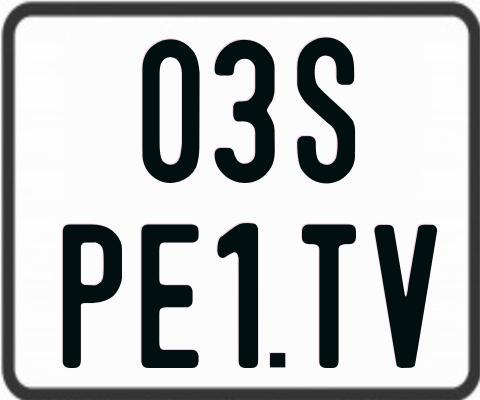0: (141, 38, 204, 182)
1: (217, 220, 261, 370)
3: (214, 38, 280, 187)
E: (138, 221, 198, 369)
P: (61, 221, 122, 366)
S: (295, 35, 358, 187)
T: (301, 223, 361, 369)
V: (371, 224, 437, 367)
